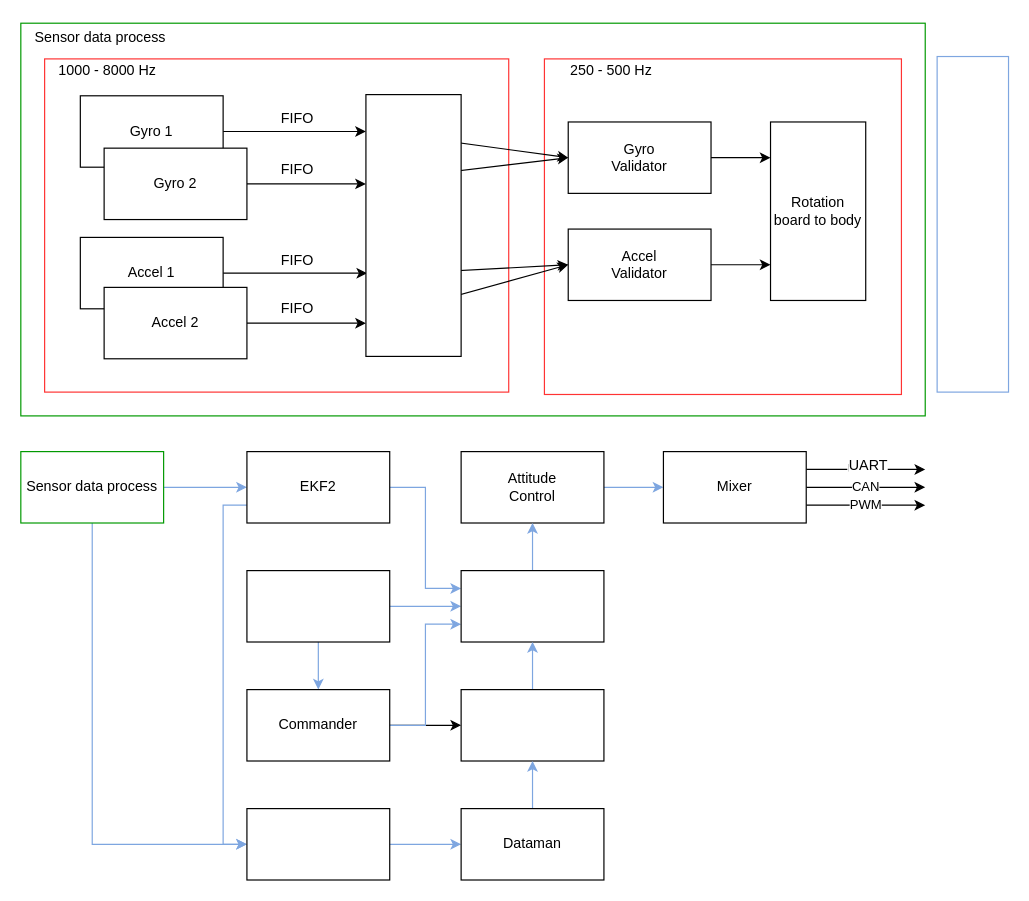
Image size: 1029x901. Some labels were removed from this diagram. Each missing label, with the centre of its shape:
Integrator: (x=413, y=224)
Mavlink: (x=318, y=843)
Navigator: (x=532, y=724)
Position Control: (x=532, y=605)
RC In: (x=318, y=605)
uORB: (x=972, y=223)
